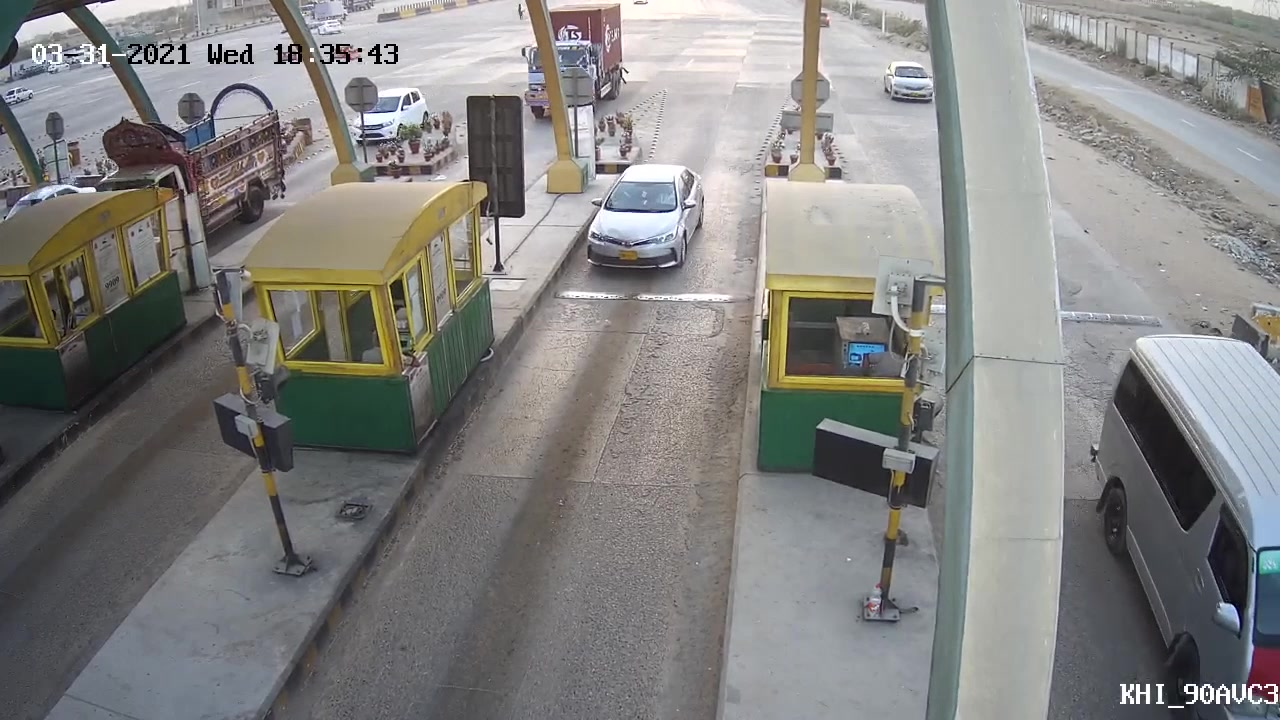F1: (577, 160, 710, 277)
